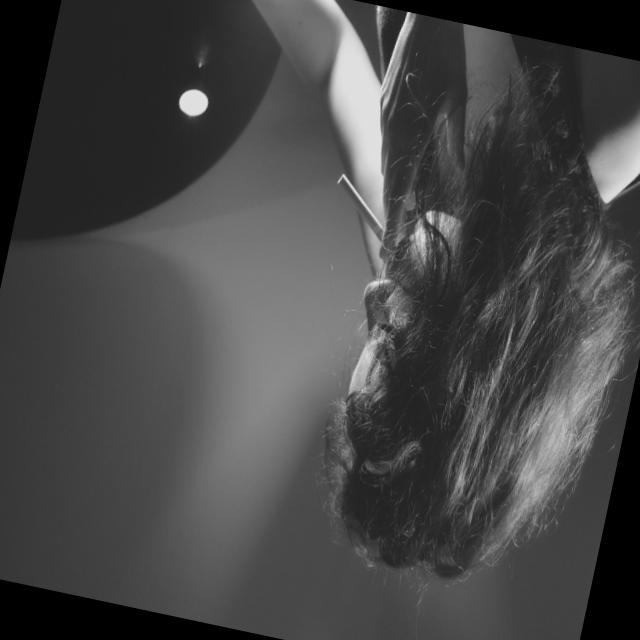smoke: (324, 165, 389, 232)
